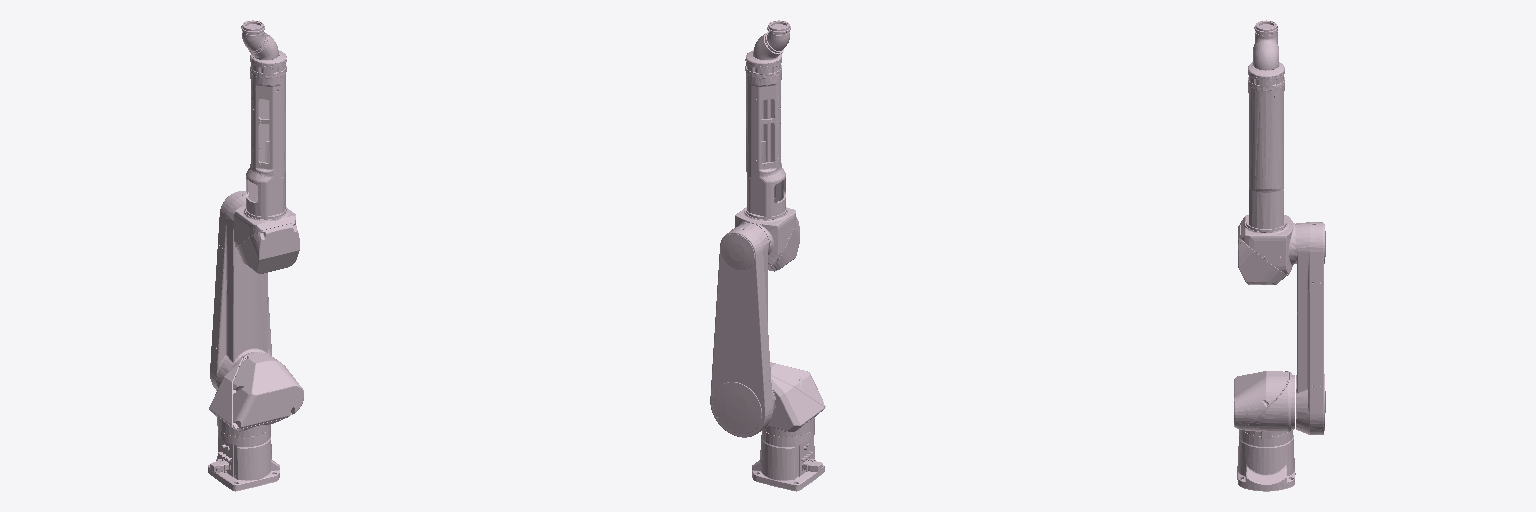
The robot description file, URDF, robot "staubli_tx250":
<?xml version="1.0" encoding="utf-8"?>
<!-- =================================================================================== -->
<!-- |    This document was autogenerated by xacro from tx250.xacro                    | -->
<!-- |    EDITING THIS FILE BY HAND IS NOT RECOMMENDED                                 | -->
<!-- =================================================================================== -->
<robot name="staubli_tx250" xmlns:xacro="http://wiki.ros.org/xacro">
  <!-- colours based on RAL values supplied by Staubli -->
  <!-- all RAL colours converted using http://www.visual-graphics.de/en/customer-care/ral-colours -->
  <!-- default colours for robots -->
  <!-- links: main serial chain -->
  <link name="base_link">
    <inertial>
      <origin rpy="0 0 0" xyz="0 0 0"/>
      <mass value="22.973"/>
      <inertia ixx="0" ixy="0" ixz="0" iyy="0" iyz="0" izz="0"/>
    </inertial>
    <visual>
      <origin rpy="0 0 0" xyz="0 0 0"/>
      <geometry>
        <mesh filename="package://staubli_tx250_support/meshes/base_link.STL"/>
      </geometry>
      <material name="">
        <color rgba="0.84314 0.77647 0.82353 1"/>
      </material>
    </visual>
    <collision>
      <origin rpy="0 0 0" xyz="0 0 0"/>
      <geometry>
        <mesh filename="package://staubli_tx250_support/meshes/base_link.STL"/>
      </geometry>
    </collision>
  </link>
  <link name="link_1">
    <inertial>
      <origin rpy="0 0 0" xyz="0 0 0"/>
      <mass value="45.357"/>
      <inertia ixx="0" ixy="0" ixz="0" iyy="0" iyz="0" izz="0"/>
    </inertial>
    <visual>
      <origin rpy="0 0 0" xyz="0 0 0"/>
      <geometry>
        <mesh filename="package://staubli_tx250_support/meshes/link_1.STL"/>
      </geometry>
      <material name="">
        <color rgba="0.84314 0.77647 0.82353 1"/>
      </material>
    </visual>
    <collision>
      <origin rpy="0 0 0" xyz="0 0 0"/>
      <geometry>
        <mesh filename="package://staubli_tx250_support/meshes/link_1.STL"/>
      </geometry>
    </collision>
  </link>
  <link name="link_2">
    <inertial>
      <origin rpy="0 0 0" xyz="0 0 0"/>
      <mass value="60.896"/>
      <inertia ixx="0" ixy="0" ixz="0" iyy="0" iyz="0" izz="0"/>
    </inertial>
    <visual>
      <origin rpy="0 0 0" xyz="0 0 0"/>
      <geometry>
        <mesh filename="package://staubli_tx250_support/meshes/link_2.STL"/>
      </geometry>
      <material name="">
        <color rgba="0.84314 0.77647 0.82353 1"/>
      </material>
    </visual>
    <collision>
      <origin rpy="0 0 0" xyz="0 0 0"/>
      <geometry>
        <mesh filename="package://staubli_tx250_support/meshes/link_2.STL"/>
      </geometry>
    </collision>
  </link>
  <link name="link_3">
    <inertial>
      <origin rpy="0 0 0" xyz="0 0 0"/>
      <mass value="41.321"/>
      <inertia ixx="0" ixy="0" ixz="0" iyy="0" iyz="0" izz="0"/>
    </inertial>
    <visual>
      <origin rpy="0 0 0" xyz="0 0 0"/>
      <geometry>
        <mesh filename="package://staubli_tx250_support/meshes/link_3.STL"/>
      </geometry>
      <material name="">
        <color rgba="0.84314 0.77647 0.82353 1"/>
      </material>
    </visual>
    <collision>
      <origin rpy="0 0 0" xyz="0 0 0"/>
      <geometry>
        <mesh filename="package://staubli_tx250_support/meshes/link_3.STL"/>
      </geometry>
    </collision>
  </link>
  <link name="link_4">
    <inertial>
      <origin rpy="0 0 0" xyz="0 0 0"/>
      <mass value="2.2667"/>
      <inertia ixx="0" ixy="0" ixz="0" iyy="0" iyz="0" izz="0"/>
    </inertial>
    <visual>
      <origin rpy="0 0 0" xyz="0 0 0"/>
      <geometry>
        <mesh filename="package://staubli_tx250_support/meshes/link_4.STL"/>
      </geometry>
      <material name="">
        <color rgba="0.84314 0.77647 0.82353 1"/>
      </material>
    </visual>
    <collision>
      <origin rpy="0 0 0" xyz="0 0 0"/>
      <geometry>
        <mesh filename="package://staubli_tx250_support/meshes/link_4.STL"/>
      </geometry>
    </collision>
  </link>
  <link name="link_5">
    <inertial>
      <origin rpy="0 0 0" xyz="0 0 0"/>
      <mass value="1.3104"/>
      <inertia ixx="0" ixy="0" ixz="0" iyy="0" iyz="0" izz="0"/>
    </inertial>
    <visual>
      <origin rpy="0 0 0" xyz="0 0 0"/>
      <geometry>
        <mesh filename="package://staubli_tx250_support/meshes/link_5.STL"/>
      </geometry>
      <material name="">
        <color rgba="0.84314 0.77647 0.82353 1"/>
      </material>
    </visual>
    <collision>
      <origin rpy="0 0 0" xyz="0 0 0"/>
      <geometry>
        <mesh filename="package://staubli_tx250_support/meshes/link_5.STL"/>
      </geometry>
    </collision>
  </link>
  <link name="link_6">
    <inertial>
      <origin rpy="0 0 0" xyz="0 0 0"/>
      <mass value="0.081549"/>
      <inertia ixx="0" ixy="0" ixz="0" iyy="0" iyz="0" izz="0"/>
    </inertial>
    <visual>
      <origin rpy="0 0 0" xyz="0 0 0"/>
      <geometry>
        <mesh filename="package://staubli_tx250_support/meshes/link_6.STL"/>
      </geometry>
      <material name="">
        <color rgba="0.84314 0.77647 0.82353 1"/>
      </material>
    </visual>
    <collision>
      <origin rpy="0 0 0" xyz="0 0 0"/>
      <geometry>
        <mesh filename="package://staubli_tx250_support/meshes/link_6.STL"/>
      </geometry>
    </collision>
  </link>
  <joint name="joint_1" type="revolute">
    <origin rpy="0 0 0" xyz="0 0 0.55"/>
    <parent link="base_link"/>
    <child link="link_1"/>
    <axis xyz="0 0 1"/>
    <limit effort="0" lower="-2.79252680319" upper="2.79252680319" velocity="2.72271363311"/>
  </joint>
  <joint name="joint_2" type="revolute">
    <origin rpy="0 0 0" xyz="0.15 0 0"/>
    <parent link="link_1"/>
    <child link="link_2"/>
    <axis xyz="0 1 0"/>
    <limit effort="0" lower="-2.39982772149" upper="2.39982772149" velocity="2.49582083035"/>
  </joint>
  <joint name="joint_3" type="revolute">
    <origin rpy="0 0 0" xyz="0 0 1.025"/>
    <parent link="link_2"/>
    <child link="link_3"/>
    <axis xyz="0 1 0"/>
    <limit effort="0" lower="-2.61799387799" upper="2.61799387799" velocity="3.63028484415"/>
  </joint>
  <joint name="joint_4" type="revolute">
    <origin rpy="0 0 0" xyz="0 0 1.1558"/>
    <parent link="link_3"/>
    <child link="link_4"/>
    <axis xyz="0 0 1"/>
    <limit effort="0" lower="-9.42477796077" upper="9.42477796077" velocity="6.87659725286"/>
  </joint>
  <joint name="joint_5" type="revolute">
    <origin rpy="0 0 0" xyz="-0.063781 0 0.10248"/>
    <parent link="link_4"/>
    <child link="link_5"/>
    <axis xyz="-1 0 1"/>
    <limit effort="0" lower="-9.42477796077" upper="9.42477796077" velocity="6.87659725286"/>
  </joint>
  <joint name="joint_6" type="revolute">
    <origin rpy="0 0 0" xyz="-0.02446589 0 0.11427128"/>
    <parent link="link_5"/>
    <child link="link_6"/>
    <axis xyz="0 0 1"/>
    <limit effort="0" lower="-9.42477796077" upper="9.42477796077" velocity="8.72664625997"/>
  </joint>
  <!-- ROS-Industrial 'base' frame: base_link to Staubli World Coordinates transform -->
  <link name="base"/>
  <joint name="base_link-base" type="fixed">
    <origin rpy="0 0 0" xyz="0 0 0.550"/>
    <parent link="base_link"/>
    <child link="base"/>
  </joint>
  <!--joint name="${prefix}joint_6-tool0" type="fixed">
      <parent link="${prefix}link_6"/>
      <child link="${prefix}tool0"/>
      <origin xyz="0 0 0" rpy="0 0 0"/>
    </joint-->
  <!-- ROS-Industrial 'flange' frame: attachment point for EEF models -->
  <link name="flange"/>
  <joint name="joint_6-flange" type="fixed">
    <origin rpy="0 0 0" xyz="0 0 0"/>
    <parent link="link_6"/>
    <child link="flange"/>
  </joint>
  <!-- ROS-Industrial 'tool0' frame: all-zeros tool frame -->
  <link name="tool0"/>
  <joint name="flange-tool0" type="fixed">
    <origin rpy="0 0 0" xyz="0 0 0"/>
    <parent link="flange"/>
    <child link="tool0"/>
  </joint>
</robot>

--- Facts derived from the render (not from the file) ---
3 views of the same robot in one strip: view 1: azimuth 30°, elevation 25°; view 2: azimuth 150°, elevation 25°; view 3: azimuth 270°, elevation 25° (orthographic).
Model staubli_tx250 with 10 links and 9 joints (6 revolute, 3 fixed), rooted at base_link, posed every joint at zero.
Visible links, largest first — view 1: link_3, link_2, link_1, base_link; view 2: link_2, link_3, base_link, link_1; view 3: link_3, link_2, link_1, base_link, link_4.
Boxes of the visible links, left/top/right/bottom form: link_3: left=234, top=51, right=299, bottom=273; link_2: left=210, top=191, right=271, bottom=390; link_1: left=209, top=352, right=303, bottom=436; base_link: left=208, top=427, right=279, bottom=491; link_2: left=710, top=223, right=774, bottom=437; link_3: left=735, top=50, right=799, bottom=271; base_link: left=752, top=427, right=824, bottom=491; link_1: left=764, top=362, right=825, bottom=436; link_3: left=1238, top=62, right=1295, bottom=284; link_2: left=1296, top=222, right=1325, bottom=434; link_1: left=1234, top=371, right=1294, bottom=438; base_link: left=1237, top=429, right=1295, bottom=491; link_4: left=1253, top=41, right=1278, bottom=70.
Size in the robot's own frame: 0.5652 by 0.5414 by 2.95 metres.
7 mesh visuals loaded from 7 distinct referenced files (7 binary STL).
